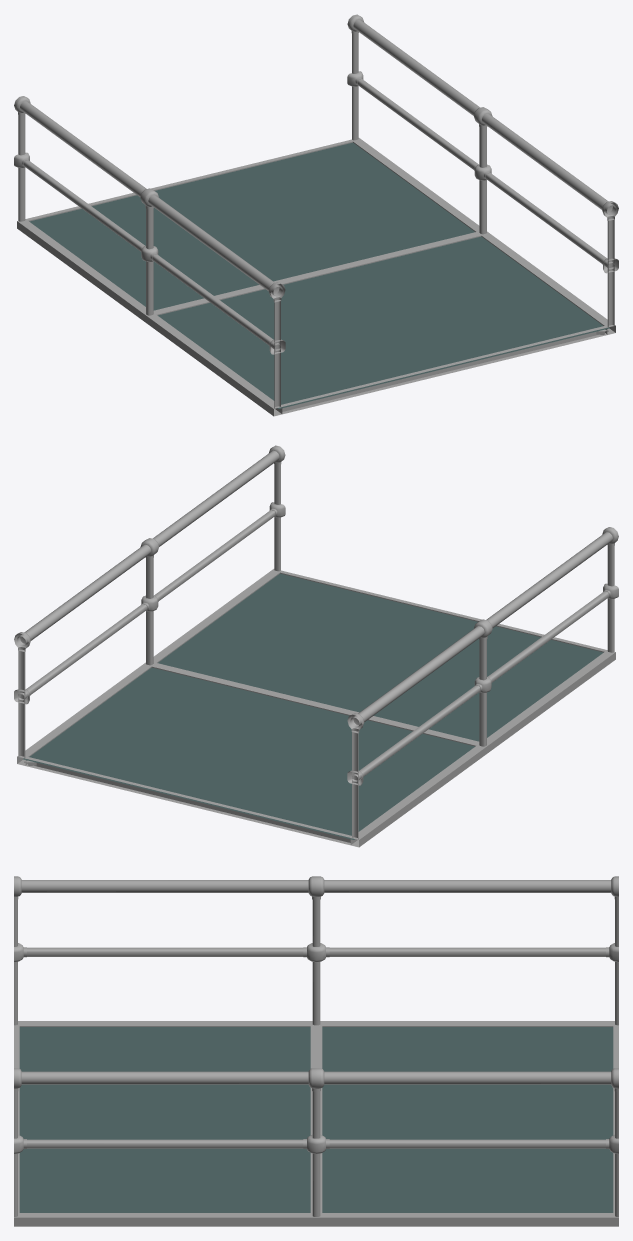
File: RailWalk_Str_Short.fbx
The picture shows the model from 3 angles, top to bottom: view 1: azimuth 30°, elevation 25°; view 2: azimuth 150°, elevation 25°; view 3: azimuth 270°, elevation 25°; orthographic projection. The views are drawn at different scales.
Parts seen in each view (by area): view 1: glass04, glass05, lineplank09, lineplank01, lineplank05, lineplank04, Mainrailing, Mainrailing4, Mainrailing1, Mainrailing5, lineplank15, lineplank14 (+11 smaller); view 2: glass05, glass04, lineplank08, lineplank05, lineplank01, lineplank04, Mainrailing1, Mainrailing5, Mainrailing, Mainrailing4, lineplank14, midrailing06 (+11 smaller); view 3: glass04, glass05, lineplank14, lineplank15, Mainrailing4, Mainrailing5, Mainrailing, Mainrailing1, midrailing01, midrailing02, midrailing05, midrailing06 (+6 smaller).
Part boxes in pixels (x1,y1,x2,y2): glass04: [158, 236, 609, 408]; glass05: [29, 142, 474, 310]; lineplank09: [281, 326, 606, 414]; lineplank01: [145, 313, 282, 416]; lineplank05: [17, 219, 146, 321]; lineplank04: [153, 232, 481, 315]; Mainrailing: [148, 195, 282, 296]; Mainrailing4: [482, 113, 616, 215]; Mainrailing1: [20, 101, 146, 196]; Mainrailing5: [353, 19, 479, 115]; lineplank15: [479, 231, 615, 334]; lineplank14: [351, 138, 479, 233]; glass05: [23, 667, 474, 839]; glass04: [158, 573, 603, 741]; lineplank08: [26, 757, 351, 845]; lineplank05: [350, 744, 487, 847]; lineplank01: [486, 650, 615, 752]; lineplank04: [151, 663, 479, 746]; Mainrailing1: [350, 626, 484, 727]; Mainrailing5: [16, 544, 150, 646]; Mainrailing: [486, 532, 612, 627]; Mainrailing4: [153, 450, 279, 546]; lineplank14: [17, 662, 153, 765]; midrailing06: [18, 604, 147, 700]; glass04: [19, 1027, 310, 1212]; glass05: [322, 1027, 613, 1212]; lineplank14: [316, 1213, 618, 1226]; lineplank15: [14, 1213, 316, 1226]; Mainrailing4: [21, 1071, 308, 1084]; Mainrailing5: [324, 1071, 611, 1084]; Mainrailing: [21, 880, 308, 892]; Mainrailing1: [324, 880, 611, 892]; midrailing01: [27, 947, 303, 956]; midrailing02: [329, 947, 605, 956]; midrailing05: [27, 1139, 303, 1148]; midrailing06: [329, 1139, 605, 1148].
Size of the model in its own units: 1.57 by 0.5638 by 2.
